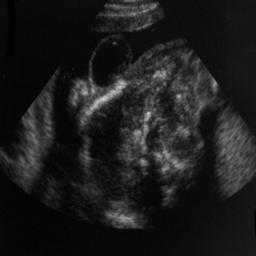abnormal: (68, 32, 209, 230)
